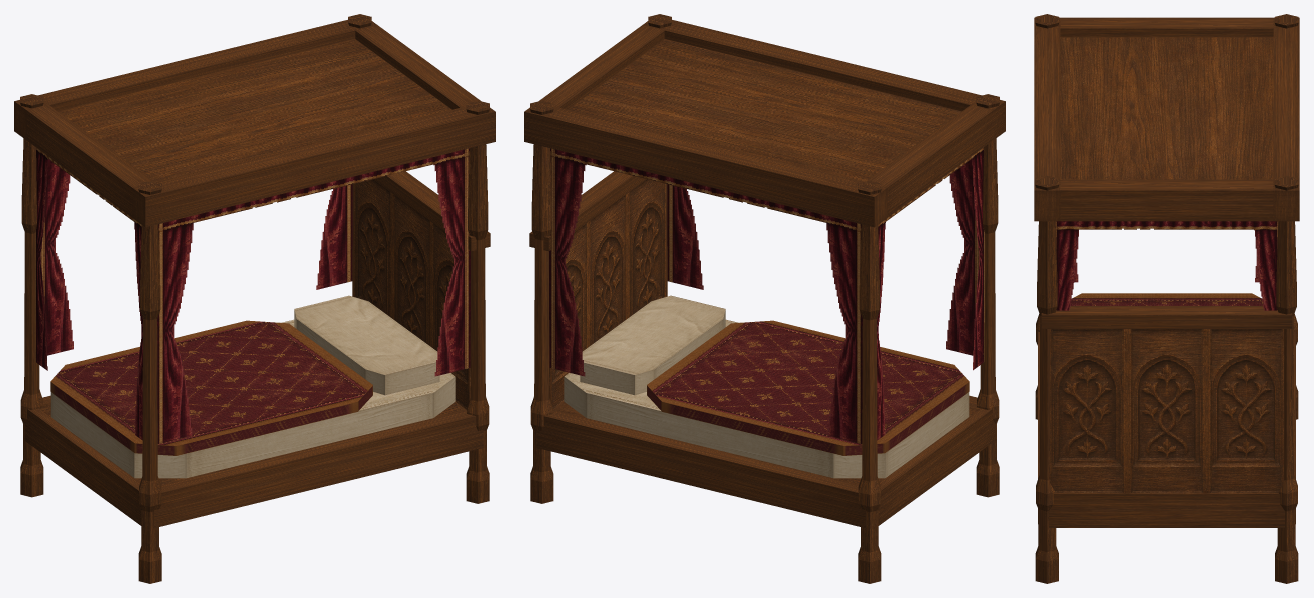
The model's file is imagegen-before-uv-refinement.glb.
3 renders of one model, left to right at view 1: azimuth 30°, elevation 25°; view 2: azimuth 150°, elevation 25°; view 3: azimuth 270°, elevation 25°, orthographic.
Parts seen in each view (by area): view 1: Continuous shaped oak post; view 2: Continuous shaped oak post; view 3: Continuous shaped oak post.
Part boxes in pixels (x1=…): Continuous shaped oak post: x1=14, y1=14, x2=495, y2=583; Continuous shaped oak post: x1=524, y1=14, x2=1005, y2=583; Continuous shaped oak post: x1=1034, y1=14, x2=1299, y2=583.
Size of the model in its own units: 2.2 by 2.34 by 1.42.
2 materials, 2 textured.
